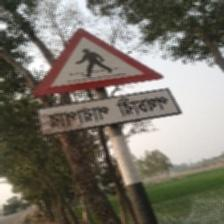Pedestrian-crossing: (32, 27, 180, 137)
